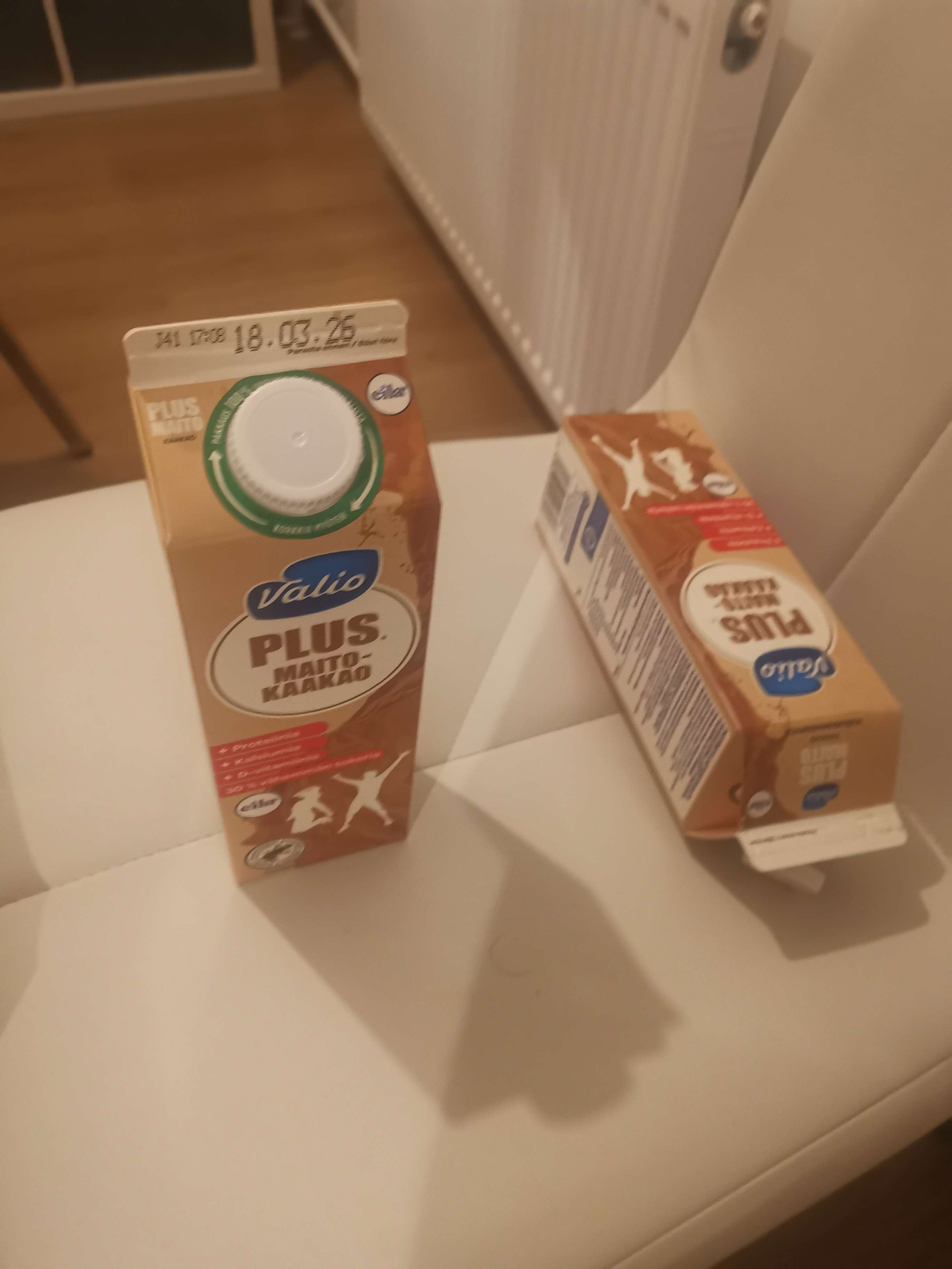Dryckeskartong: (120, 299, 442, 884), (534, 408, 908, 895)
